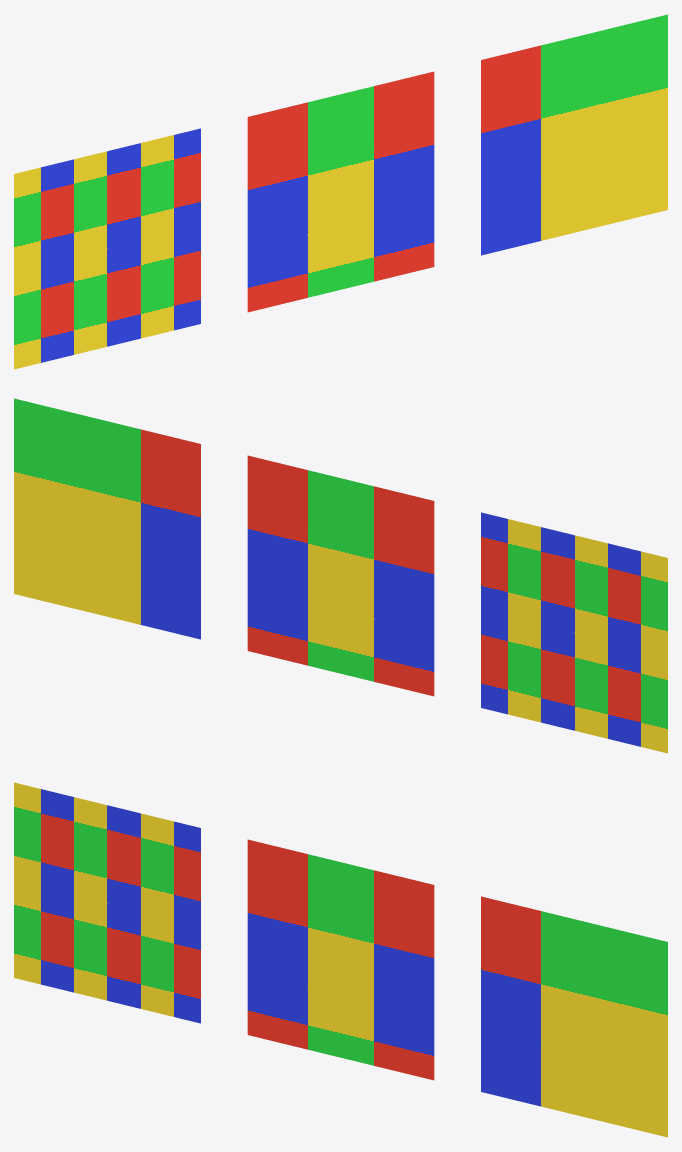
Rendered from gltf-uv1-sampler-wrapping.gltf.
3 renders of one model, top to bottom at view 1: azimuth 30°, elevation 25°; view 2: azimuth 150°, elevation 25°; view 3: azimuth 330°, elevation 25°, orthographic.
Size of the model in its own units: 7 by 2 by 0.
Materials: 3 (3 with a texture image).
